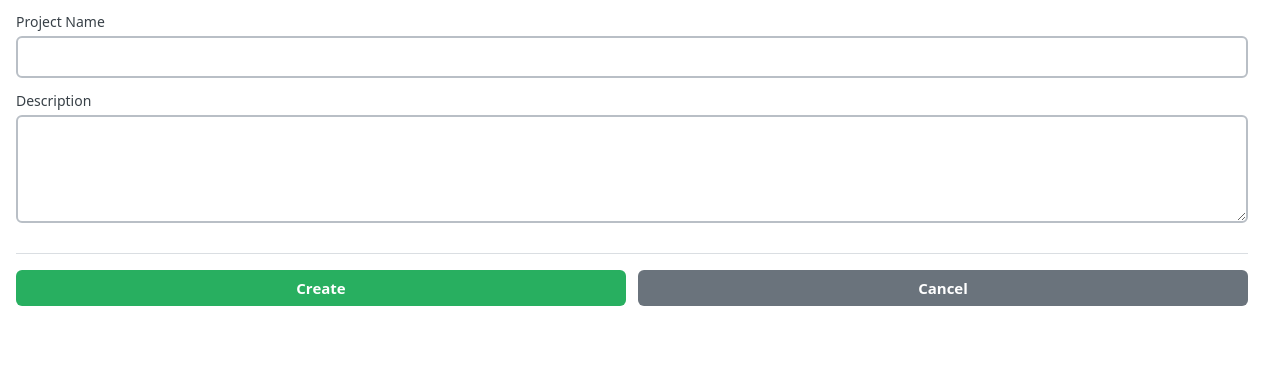
Test: ProjectForm - Form Submission › displays error message on failed submission
In the field: (632, 57) [16,36,1248,78], type "Test Project"
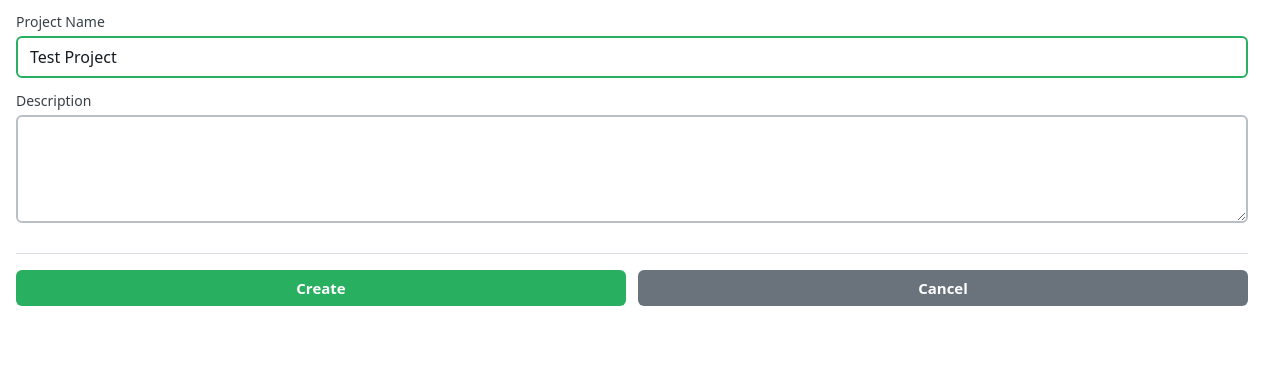
Click the button "Create": (321, 288) [16,270,626,306]
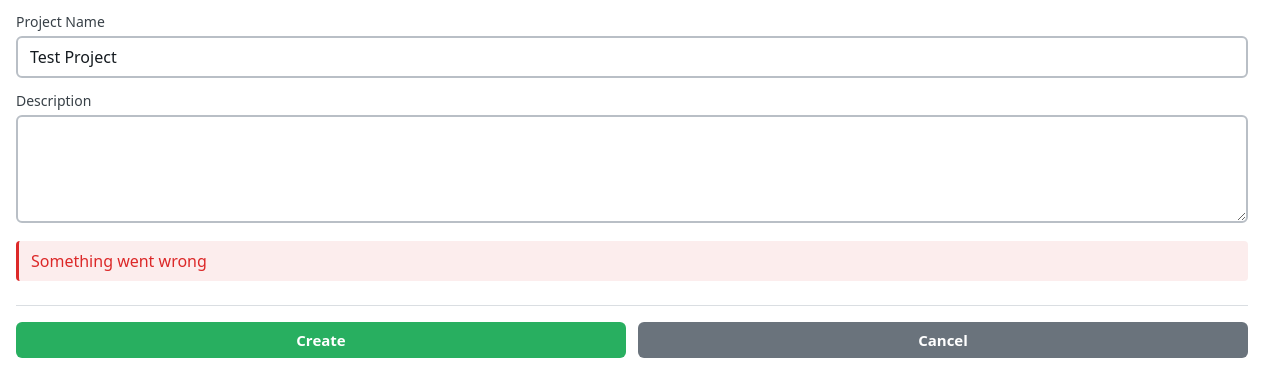
Expected: the text "Something went wrong" is shown, [16,241,1248,281]
